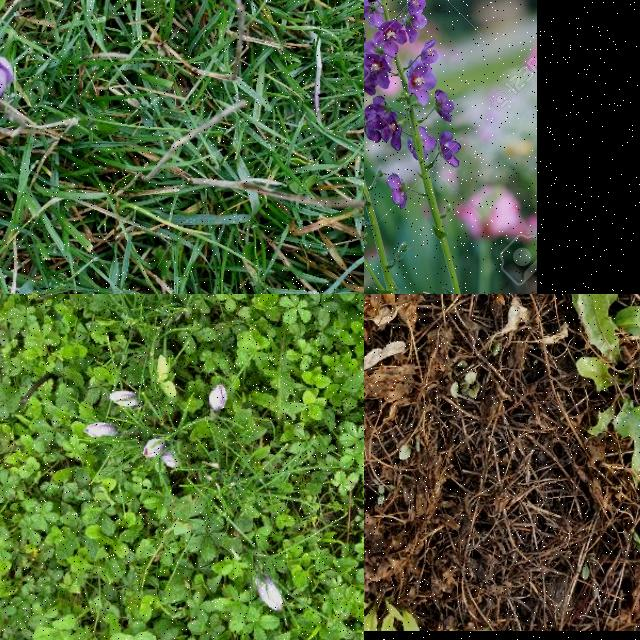flower: (0, 16, 14, 94), (256, 576, 284, 612), (84, 423, 118, 439), (208, 385, 228, 411), (110, 392, 140, 408), (143, 438, 167, 458), (164, 450, 178, 468)
